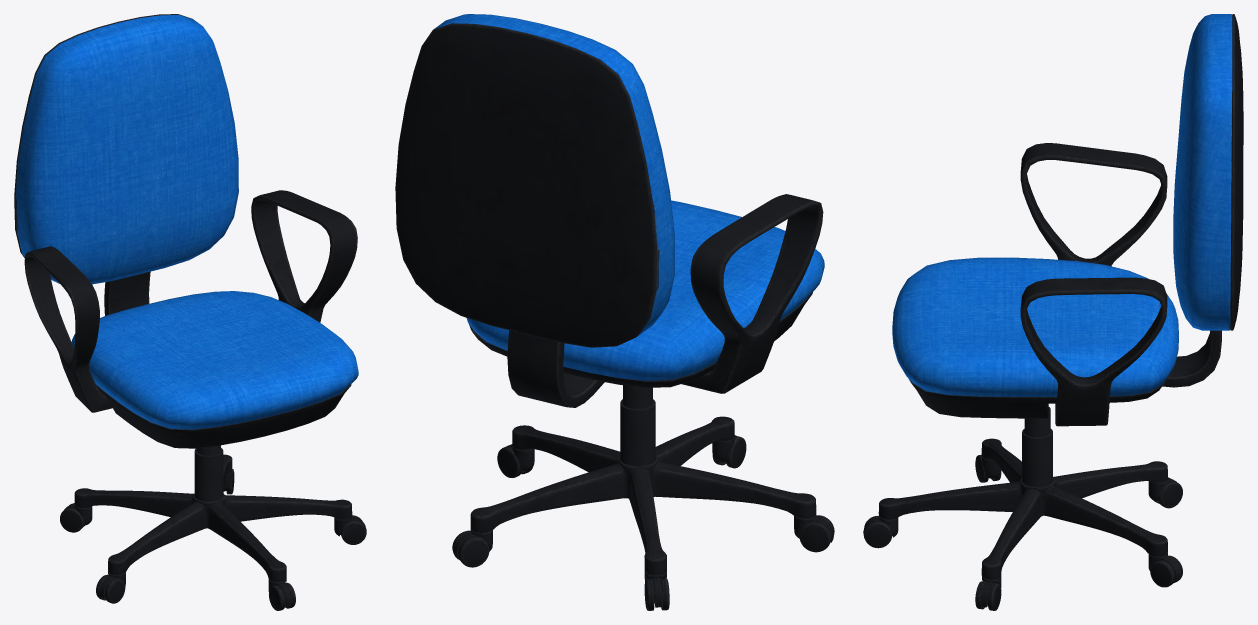
The model's file is office_chair-transformed.glb.
The picture shows the model from 3 angles, left to right: view 1: azimuth 30°, elevation 25°; view 2: azimuth 150°, elevation 25°; view 3: azimuth 270°, elevation 25°; orthographic projection. The views are drawn at different scales.
Visible parts, largest first — view 1: Chair_; view 2: Chair_; view 3: Chair_.
Part boxes in pixels (x1,y1,x2,y2): Chair_: (14,14,366,610); Chair_: (395,14,834,610); Chair_: (863,14,1243,610).
Bounding box in the file's own units: 0.6783 × 1.06 × 0.7217.
Materials: 1 (1 with a texture image).
